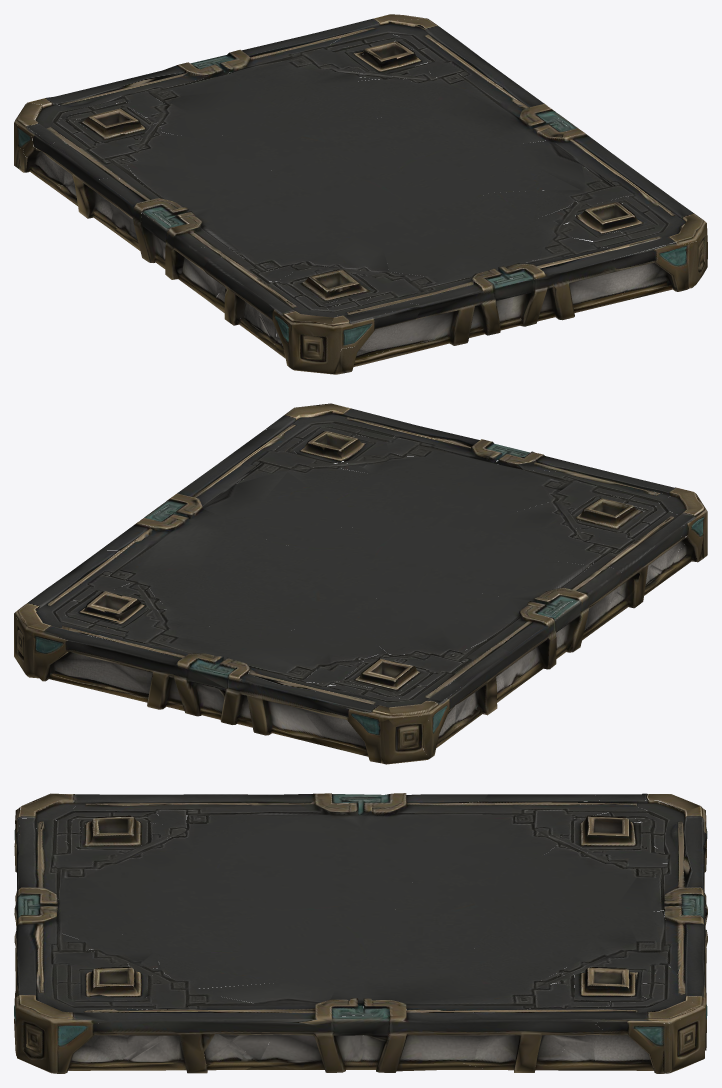
File: card_carrier_base.glb
3 views of the same model, one above another, from view 1: azimuth 30°, elevation 25°; view 2: azimuth 150°, elevation 25°; view 3: azimuth 270°, elevation 25° (orthographic). The views are drawn at different scales.
Visible parts, largest first — view 1: tripo_node_b987ea85-9e79-4455-93cc-cc93087ec06b; view 2: tripo_node_b987ea85-9e79-4455-93cc-cc93087ec06b; view 3: tripo_node_b987ea85-9e79-4455-93cc-cc93087ec06b.
Boxes of the visible parts, x1,y1,x2,y2 form: tripo_node_b987ea85-9e79-4455-93cc-cc93087ec06b: [14, 14, 707, 374]; tripo_node_b987ea85-9e79-4455-93cc-cc93087ec06b: [14, 403, 707, 764]; tripo_node_b987ea85-9e79-4455-93cc-cc93087ec06b: [14, 793, 707, 1073].
Size of the model in its own units: 1.03 by 0.1278 by 1.32.
1 material, 1 textured.
